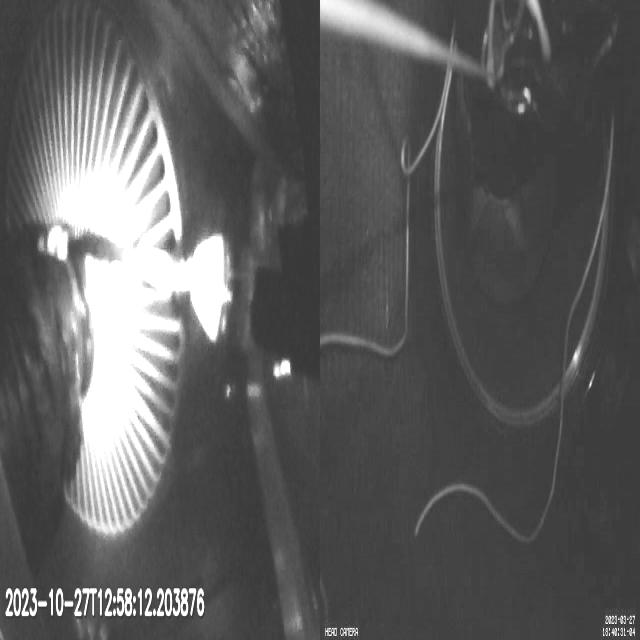head: (193, 235, 279, 348)
white-dots: (38, 223, 70, 261)
